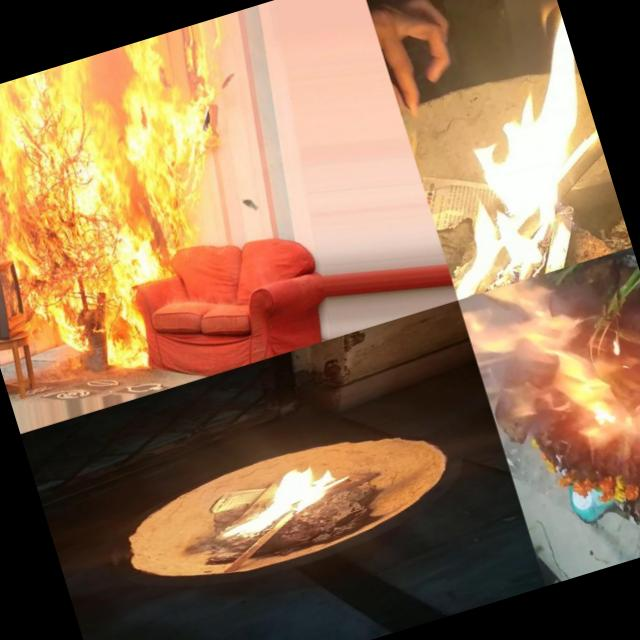fire: (379, 0, 632, 293), (0, 67, 156, 400), (68, 27, 258, 232), (502, 408, 640, 586), (200, 456, 354, 550), (518, 330, 640, 436), (119, 221, 174, 285), (158, 211, 200, 254)
smoke: (524, 254, 632, 352)
